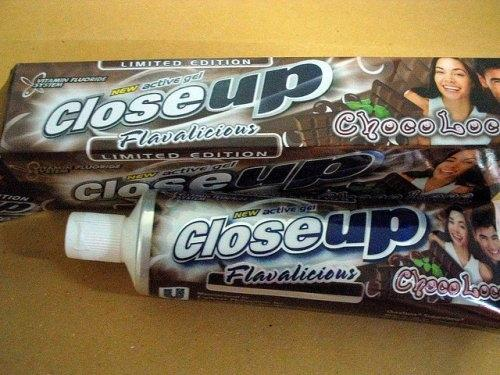toothpaste: (56, 177, 500, 329)
